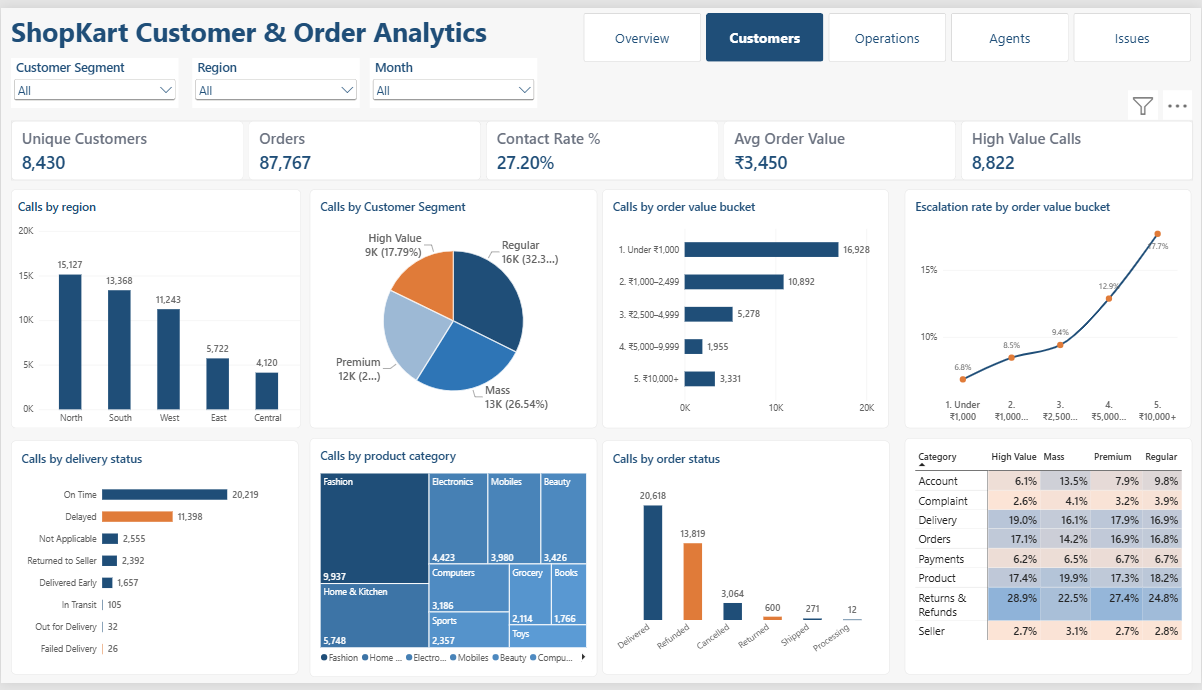

What the dashboard file says about the page in this screenshot:
{"tool":"powerbi","page":{"name":"Customers","canvas":[1920,1080],"ordinal":1},"visuals":[{"type":"slicer","fields":{"Values":["DimDate.Month"]},"box":[590,80.4,268,80],"z":0},{"type":"textbox","box":[16,8,862,72],"z":1000},{"type":"slicer","fields":{"Values":["DimCustomer.CustomerSegment"]},"box":[16,80.4,268,80],"z":2000},{"type":"slicer","fields":{"Values":["DimLocation.Region"]},"box":[306,80.4,268,80],"z":3000},{"type":"pageNavigator","box":[932,8,974,78],"z":4000},{"type":"cardVisual","fields":{"Data":["allMeasures.Unique Customers","allMeasures.Orders","allMeasures.Customer Contact Rate %","allMeasures.Avg Order Value","allMeasures.High-Value Customer Calls"]},"box":[16,180,1892,96],"z":5000},{"type":"pieChart","title":"Calls by Customer Segment","fields":{"Category":["DimCustomer.CustomerSegment"],"Y":["allMeasures.Total Calls"]},"box":[494,290,460,382],"z":6000},{"type":"treemap","title":"Calls by product category","fields":{"Group":["DimProduct.Category"],"Values":["allMeasures.Total Calls"]},"box":[494,688,460,382],"z":7000},{"type":"barChart","title":"Calls by order value bucket","fields":{"Category":["FactCalls.OrderValueBucket"],"Y":["allMeasures.Total Calls"]},"box":[962,290,458,382],"z":8000},{"type":"columnChart","title":"Calls by region","fields":{"Category":["DimLocation.Region"],"Y":["allMeasures.Total Calls"]},"box":[16,290,464,382],"z":9000},{"type":"clusteredBarChart","title":"Calls by delivery status","fields":{"Category":["FactCalls.DeliveryStatus"],"Y":["allMeasures.Total Calls"]},"box":[16,692,460,374],"z":10000},{"type":"columnChart","title":"Calls by order status","fields":{"Category":["FactCalls.OrderStatus"],"Y":["allMeasures.Total Calls"]},"box":[962,692,460,374],"z":11000},{"type":"pivotTable","fields":{"Columns":["DimCustomer.CustomerSegment"],"Rows":["DimCallReason.Category"],"Values":["allMeasures.Share of Segment Calls"]},"box":[1446,688,460,378],"z":12000},{"type":"lineChart","title":"Escalation rate by order value bucket","fields":{"Category":["FactCalls.OrderValueBucket"],"Y":["allMeasures.Escalation Rate %"]},"box":[1446,290,458,382],"z":13000}]}

Visuals, with their boxes in screenshot pixels (x1, y1, x2, y2), scaled from the page's 1920x1080 canvas onto the 1202x690 screenshot:
slicer - DimDate.Month: left=369, top=51, right=537, bottom=102
textbox: left=10, top=5, right=550, bottom=51
slicer - DimCustomer.CustomerSegment: left=10, top=51, right=178, bottom=102
slicer - DimLocation.Region: left=192, top=51, right=359, bottom=102
pageNavigator: left=583, top=5, right=1193, bottom=55
cardVisual - allMeasures.Unique Customers x allMeasures.Orders: left=10, top=115, right=1194, bottom=176
"Calls by Customer Segment" pieChart: left=309, top=185, right=597, bottom=429
"Calls by product category" treemap: left=309, top=440, right=597, bottom=684
"Calls by order value bucket" barChart: left=602, top=185, right=889, bottom=429
"Calls by region" columnChart: left=10, top=185, right=300, bottom=429
"Calls by delivery status" clusteredBarChart: left=10, top=442, right=298, bottom=681
"Calls by order status" columnChart: left=602, top=442, right=890, bottom=681
pivotTable - DimCustomer.CustomerSegment x DimCallReason.Category: left=905, top=440, right=1193, bottom=681
"Escalation rate by order value bucket" lineChart: left=905, top=185, right=1192, bottom=429
